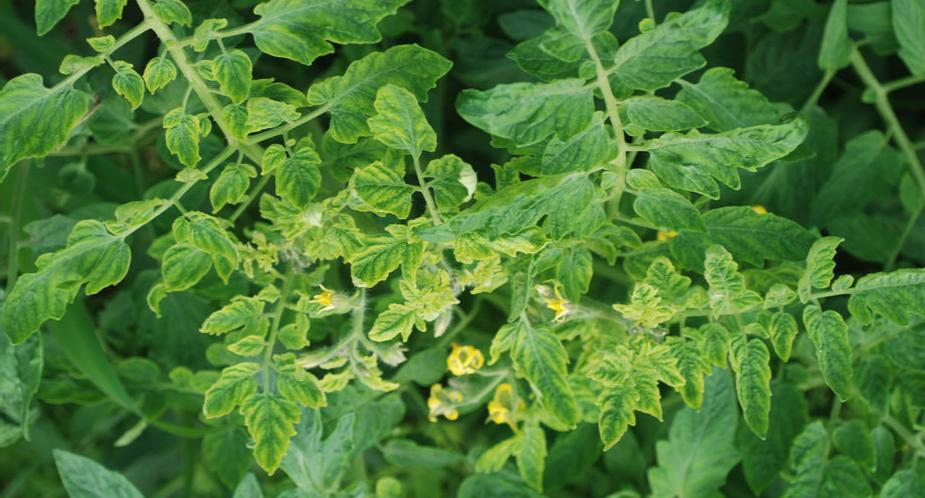Tomato leaf yellow virus: (2, 215, 124, 351), (305, 44, 458, 151), (448, 159, 604, 252), (0, 68, 85, 191), (250, 0, 420, 60), (615, 0, 730, 86), (458, 77, 600, 146), (510, 318, 579, 432), (235, 386, 311, 475), (619, 245, 689, 331), (258, 131, 330, 213), (727, 335, 777, 446), (848, 256, 925, 328), (367, 79, 439, 153), (353, 218, 422, 291), (201, 352, 271, 422), (627, 184, 713, 236), (346, 159, 416, 221), (589, 373, 640, 455), (174, 204, 240, 266), (790, 237, 847, 301), (423, 152, 476, 211), (695, 238, 744, 300), (199, 293, 266, 337), (103, 54, 149, 118), (206, 158, 257, 215), (553, 243, 599, 303), (215, 42, 256, 105), (160, 108, 200, 171), (364, 308, 423, 346), (142, 52, 182, 97), (93, 0, 130, 33)
